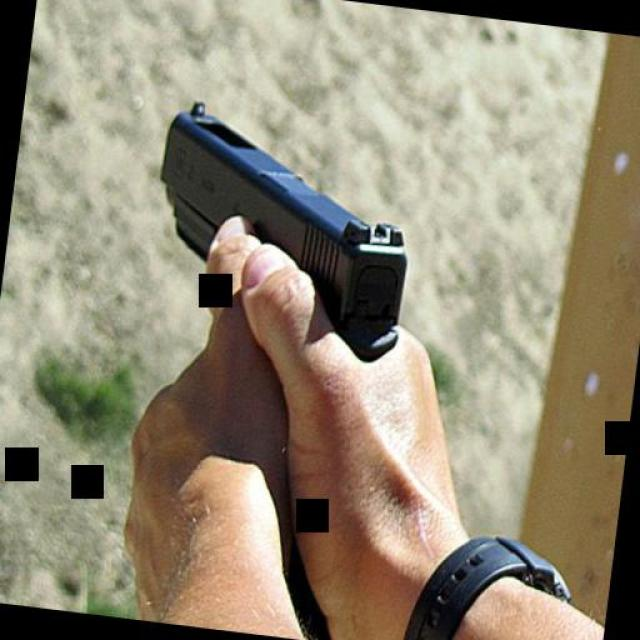gun: (125, 87, 427, 415)
